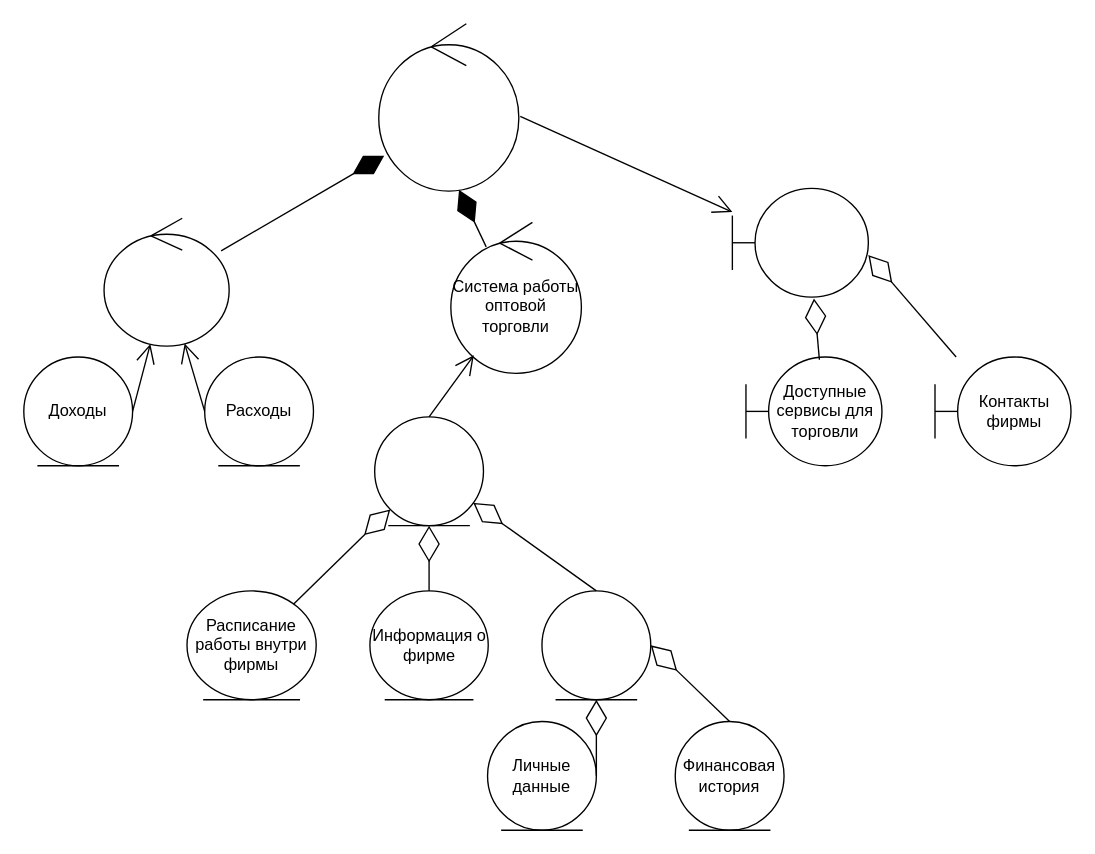
This 1095x854 diagram has some shape labels left out. Each missing label, with the box of its shape:
Сайт компании: (731, 187, 868, 297)
Сама фирма: (373, 415, 483, 526)
Система управления оптовой торговлей: (377, 22, 519, 191)
Система управления финансами: (103, 217, 229, 346)
Участники: (541, 590, 651, 700)
